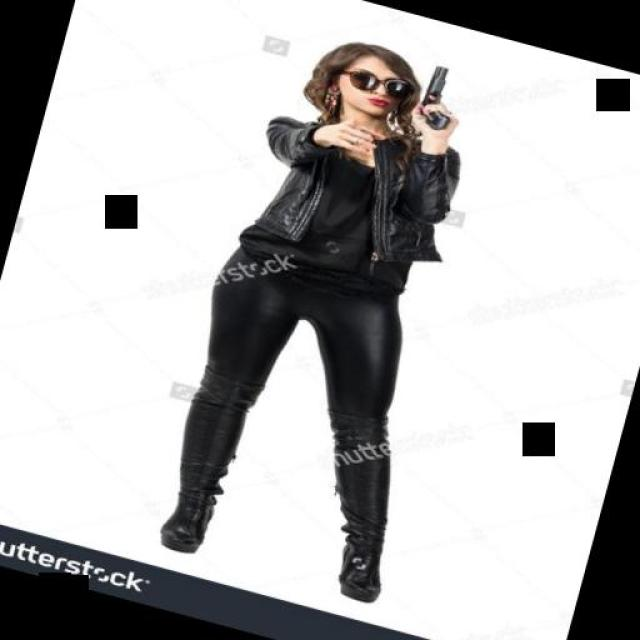gun: (412, 57, 466, 132)
